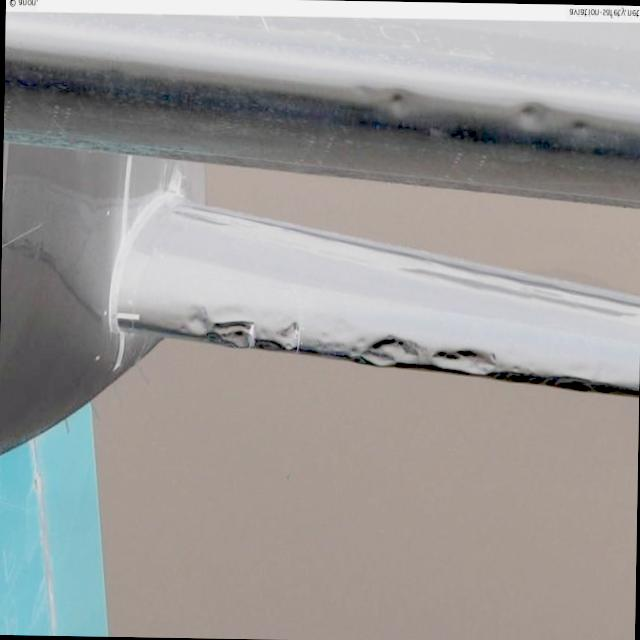dent: (178, 302, 502, 380), (504, 102, 591, 140), (387, 92, 412, 115)
